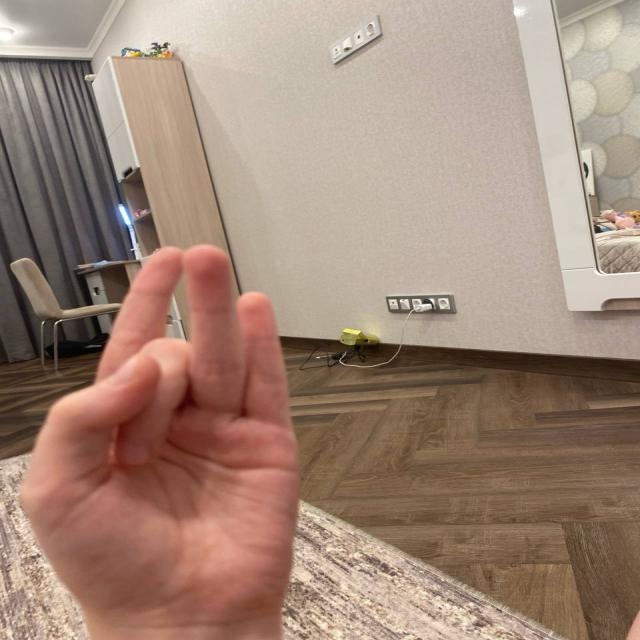r: (31, 218, 307, 625)
